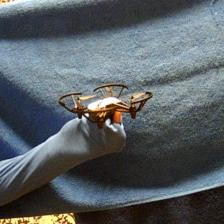drone: (60, 82, 152, 125)
